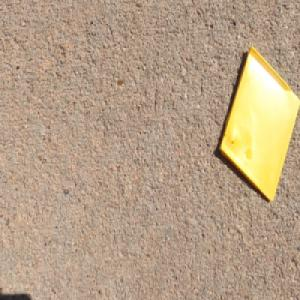PlasticPart: (217, 43, 300, 203)
